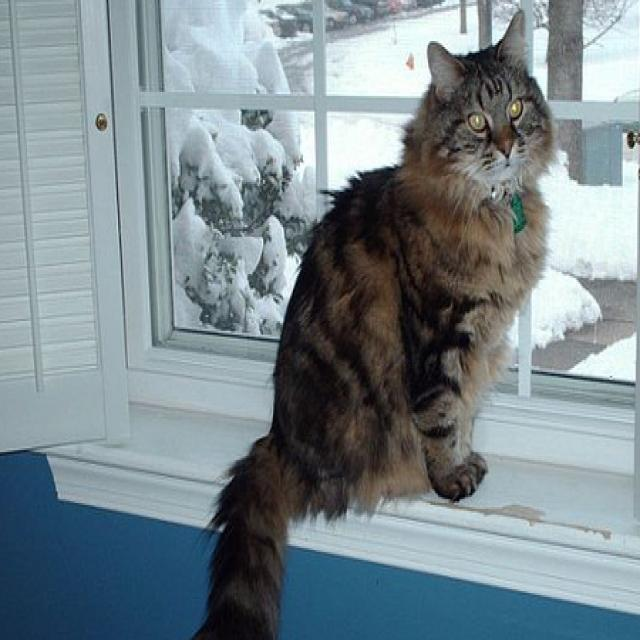Maine Coon: (170, 6, 554, 640)
